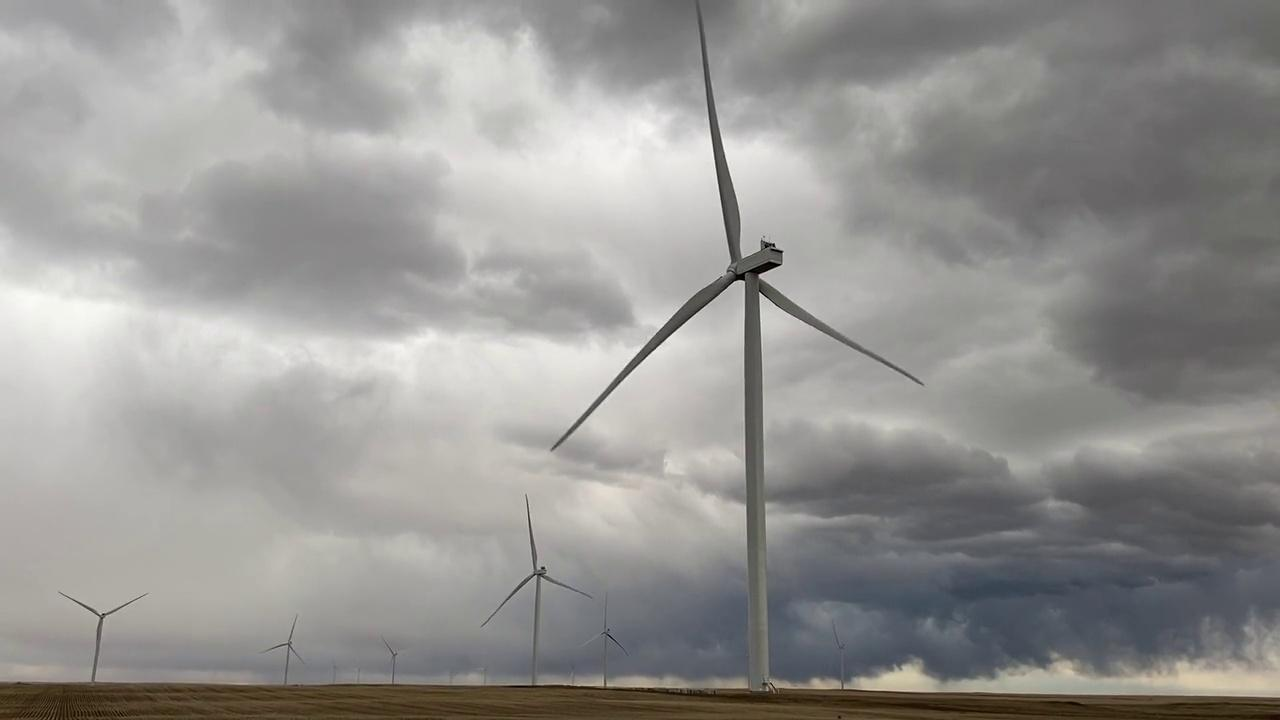turbine: (543, 2, 922, 694), (480, 489, 590, 690), (59, 589, 150, 688), (575, 592, 632, 689), (816, 612, 863, 690), (258, 610, 305, 686), (381, 631, 408, 686), (473, 663, 503, 695), (438, 665, 466, 690), (563, 660, 583, 691), (322, 657, 343, 686), (354, 662, 367, 684)
